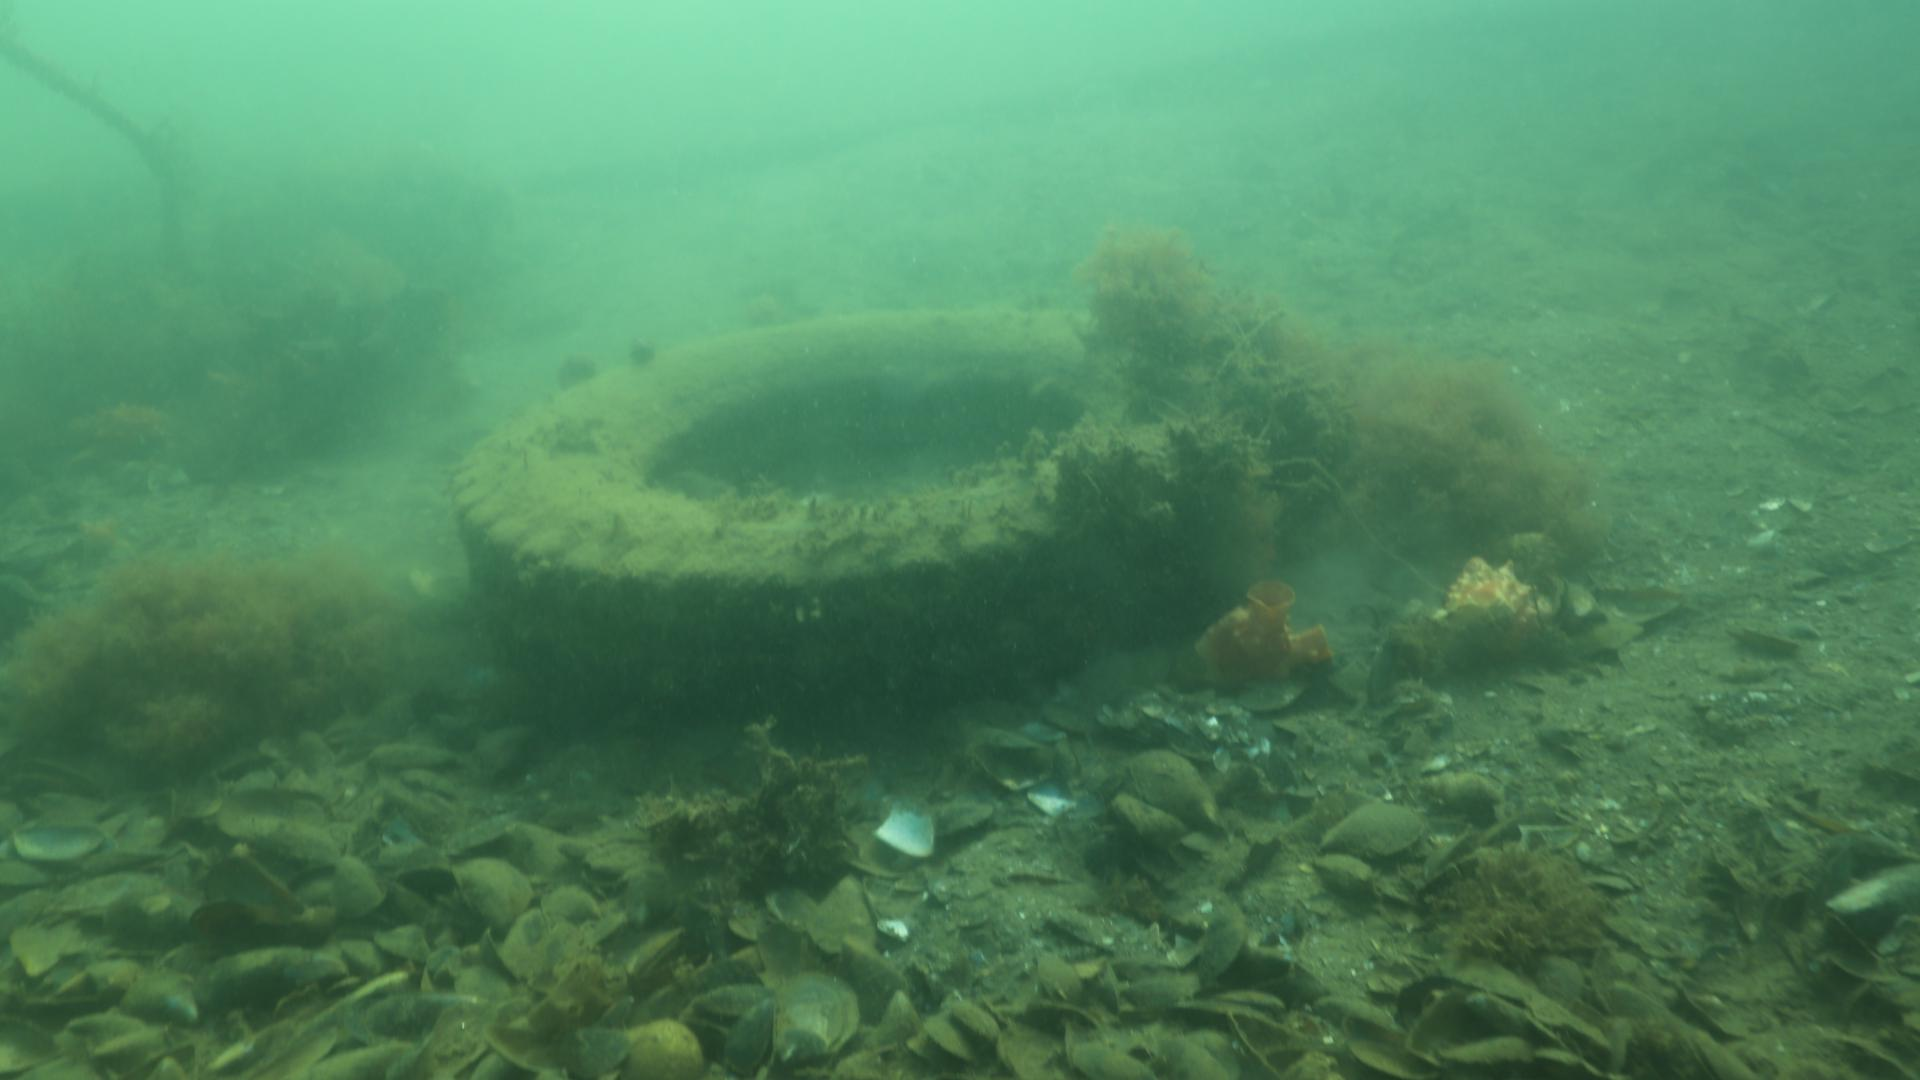tire: (451, 305, 1234, 731)
